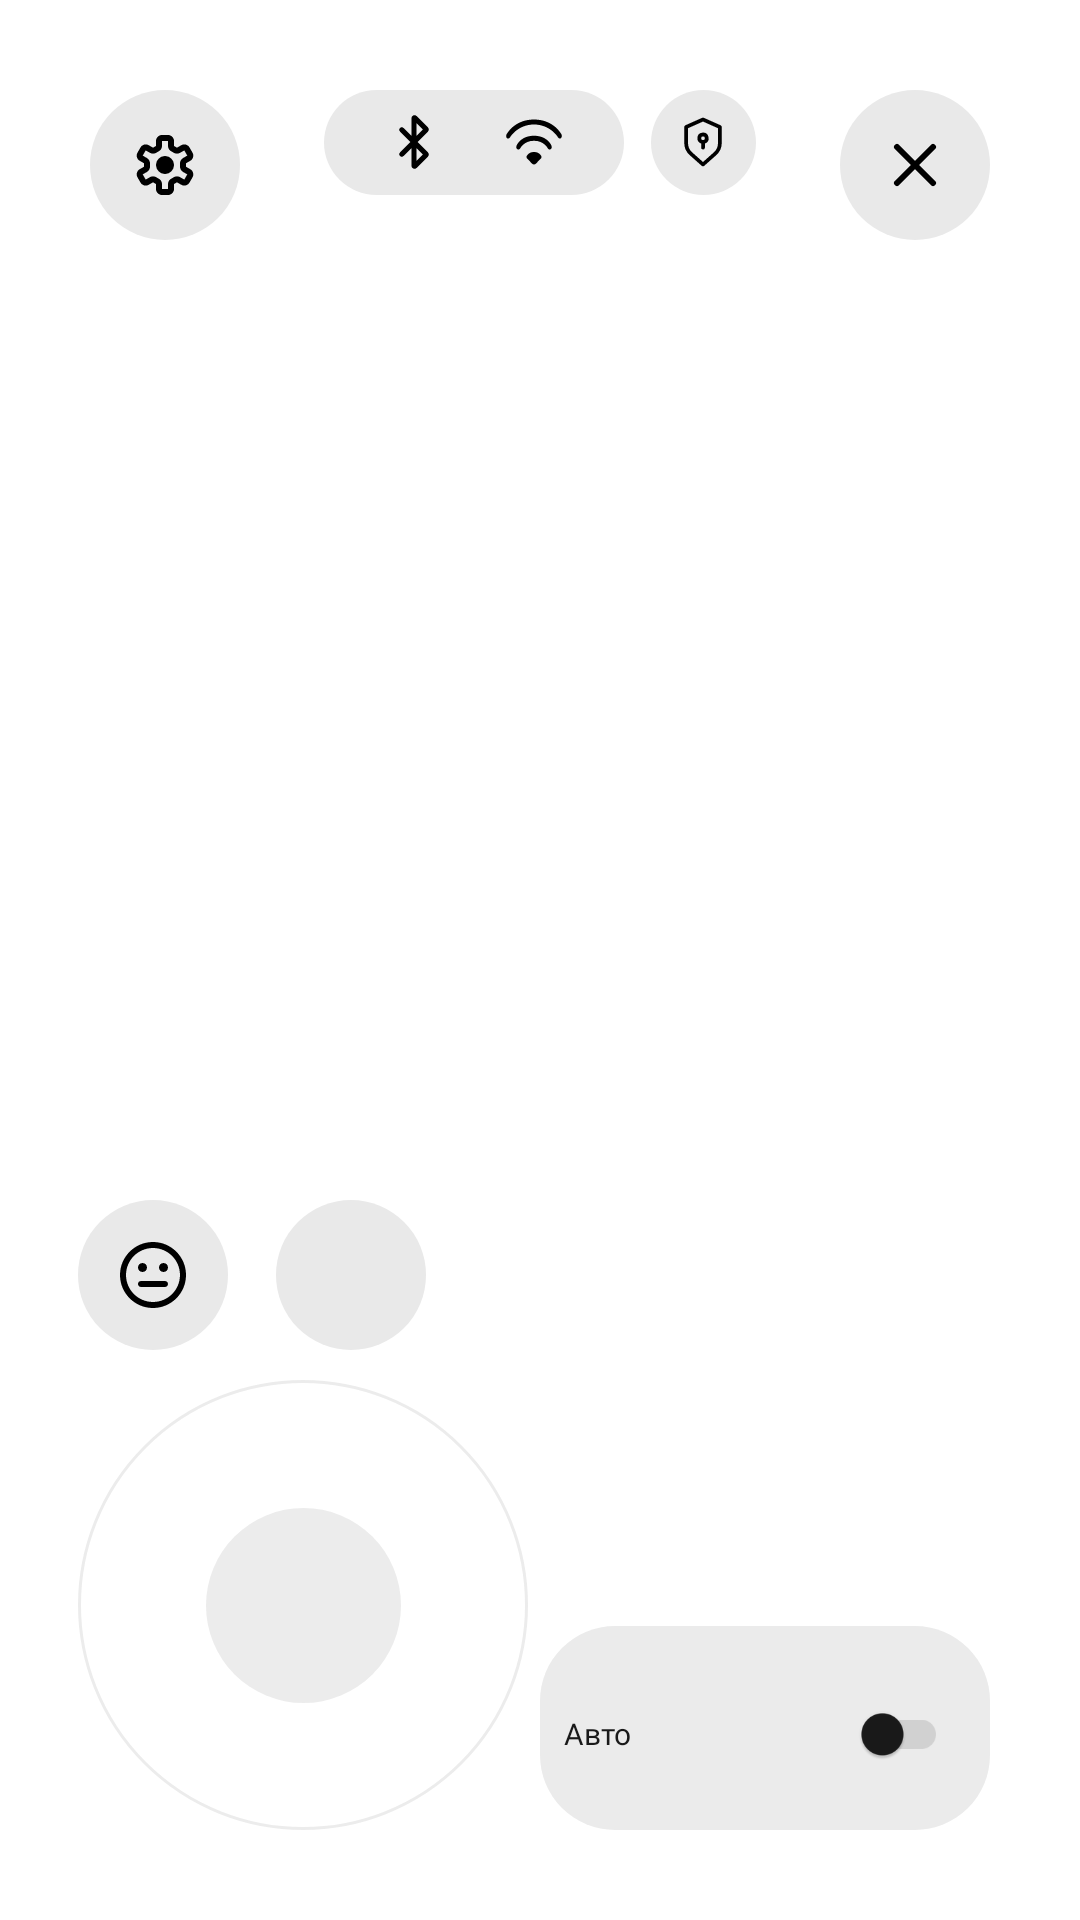

Where to tap for icons on this 1080 x 1920 app screen, as point (x, y):
emoji: point (153, 1275)
exit: point (915, 165)
security: point (703, 142)
settings: point (165, 165)
wifi: point (534, 142)
